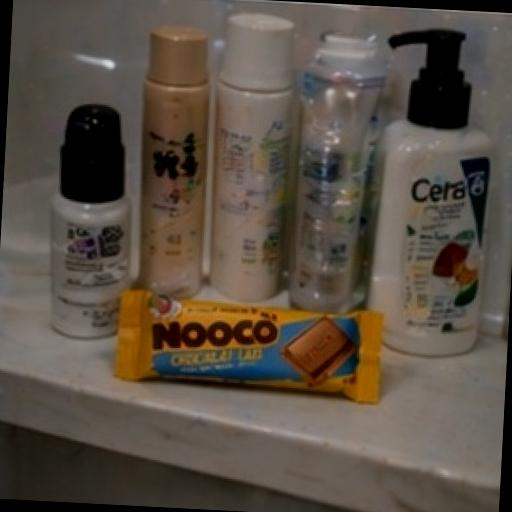nooco: (62, 242, 436, 440)
